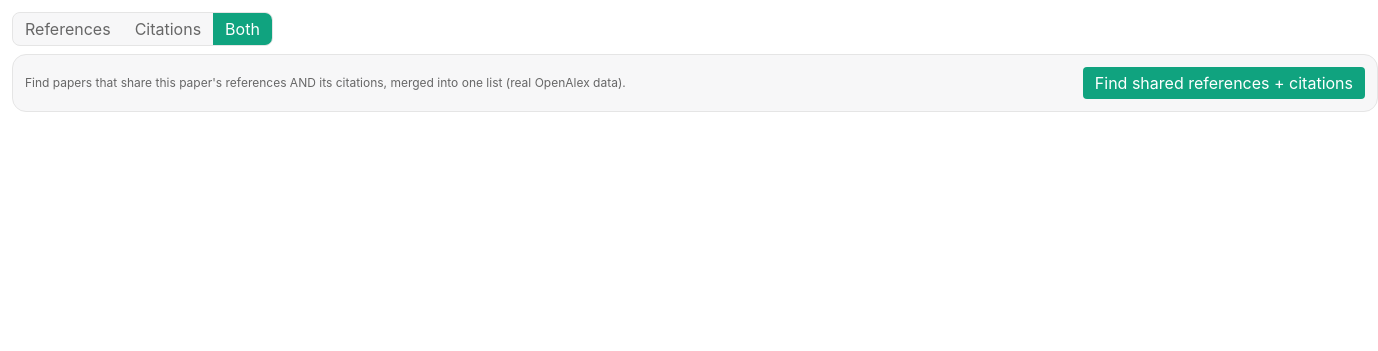
Test: SimilarPapersPanel R20 verification + provenance › renders a REAL verification chip and an OpenAlex provenance link per overlap row
The image size is (1378, 351).
Click the button "Find shared references + citations" at x=1224, y=83, box [1083,67,1365,99]
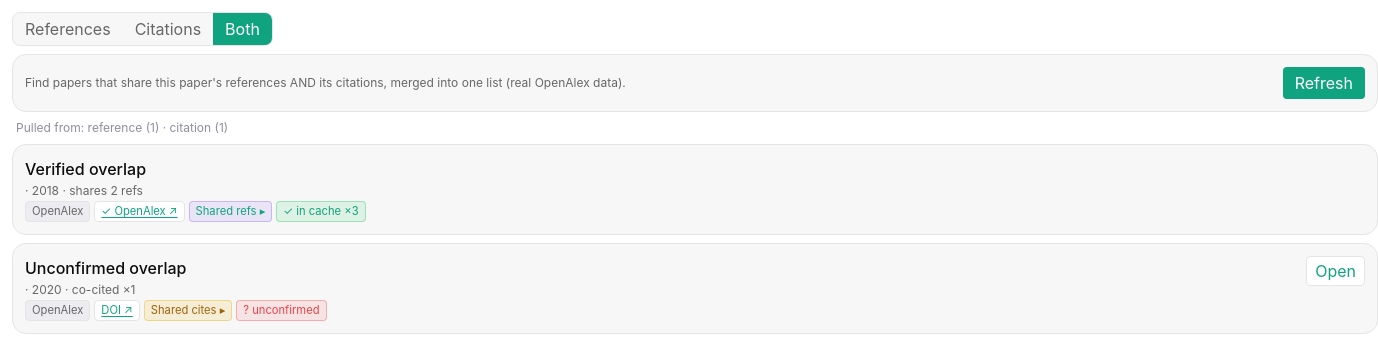
Check: the text "Verified overlap" is shown, box [25,159,146,179]
Check: the text "✓ in cache ×3" is shown, box [276,201,366,222]
Check: the text "? unconfirmed" is shown, box [236,300,326,321]
